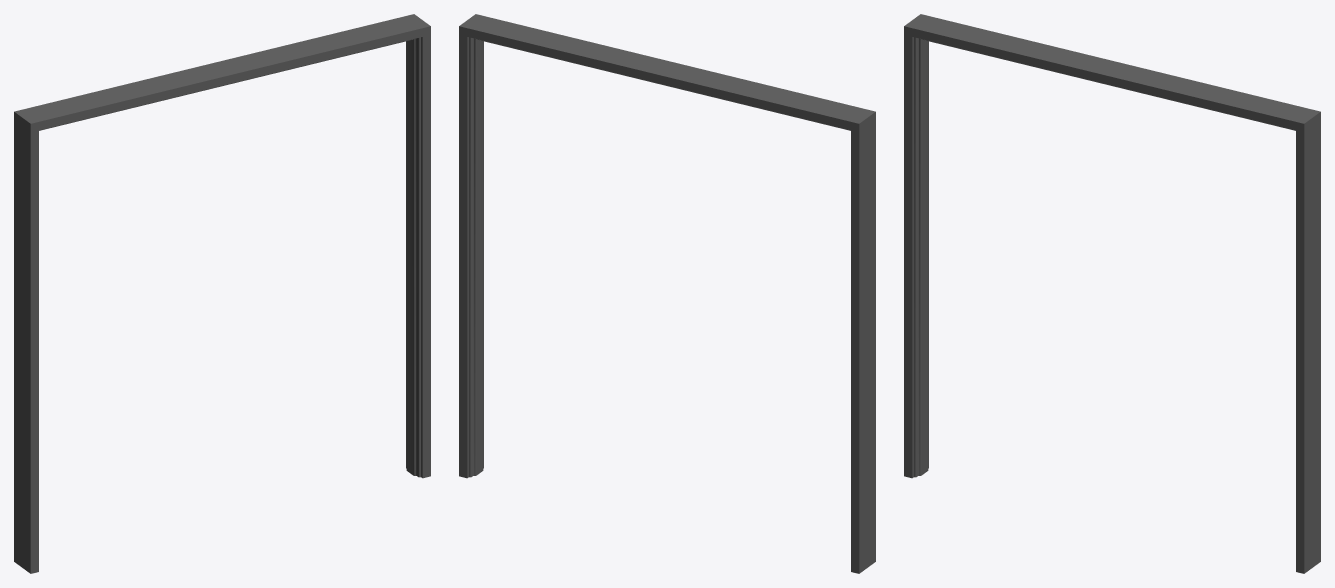
Rendered from Doorway_Double_7_doorway_double_7.obj.
The picture shows the model from 3 angles, left to right: view 1: azimuth 30°, elevation 25°; view 2: azimuth 150°, elevation 25°; view 3: azimuth 330°, elevation 25°; orthographic projection.
Bounding box in the file's own units: 1.95 × 2.1 × 0.1408.
